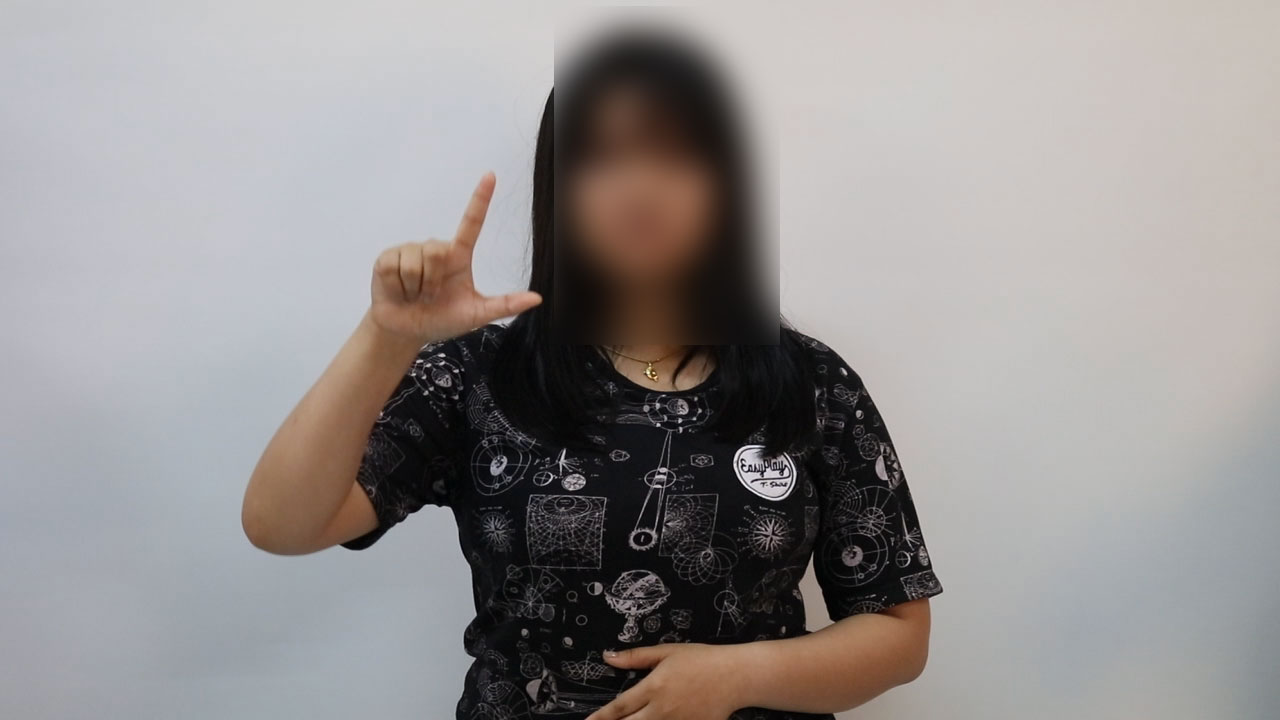lor: (355, 163, 551, 363)
